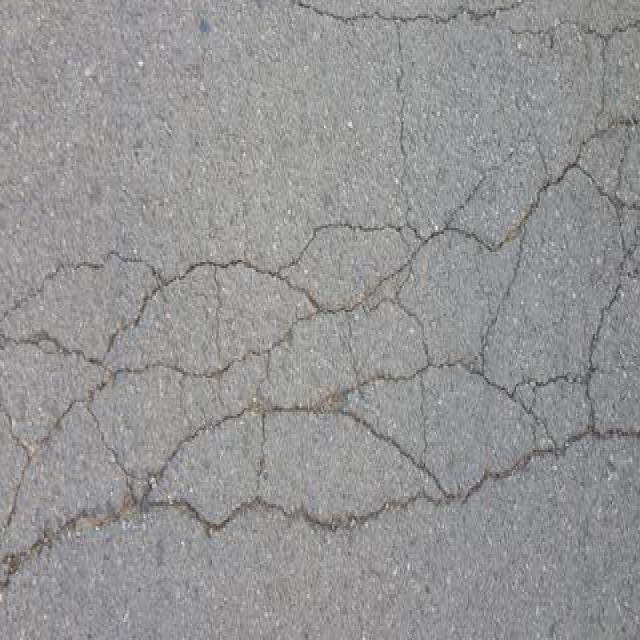GRIETA: (292, 0, 388, 22)
PIEL DE COCODRILO: (0, 0, 639, 639)
